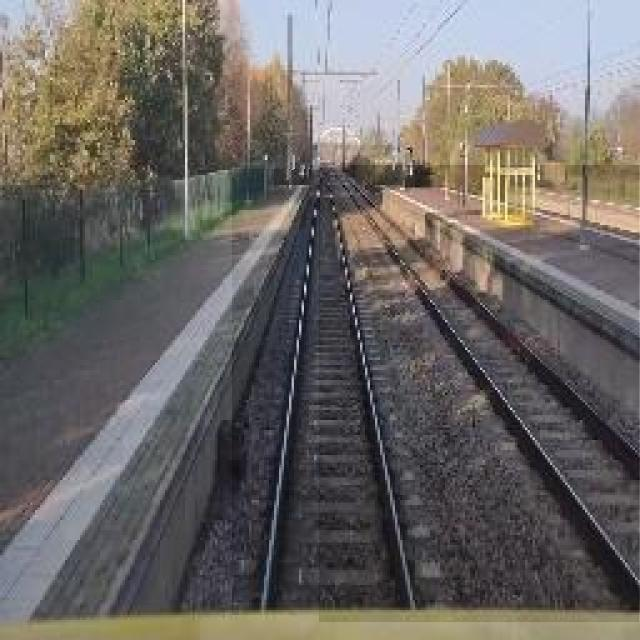rail: (320, 167, 640, 623), (233, 171, 451, 616)
